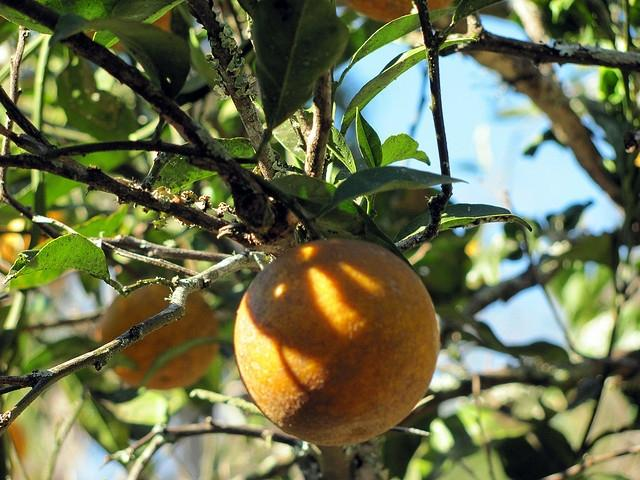orange: (232, 238, 440, 446), (102, 286, 222, 390), (85, 9, 172, 52), (343, 0, 414, 23), (0, 232, 25, 266), (8, 418, 26, 462), (46, 211, 68, 226), (7, 218, 25, 232)
